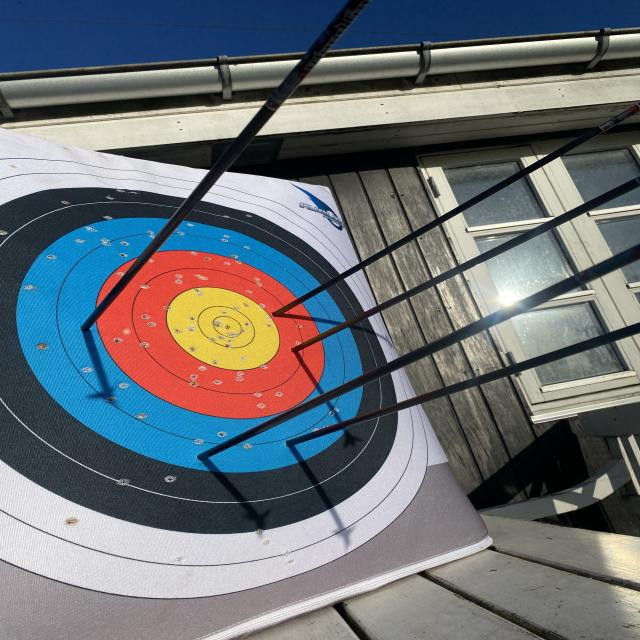Arrow_Blue: (67, 304, 110, 344), (283, 429, 313, 454), (193, 441, 220, 466)
Arrow_Red: (267, 301, 293, 326), (287, 340, 310, 361)
